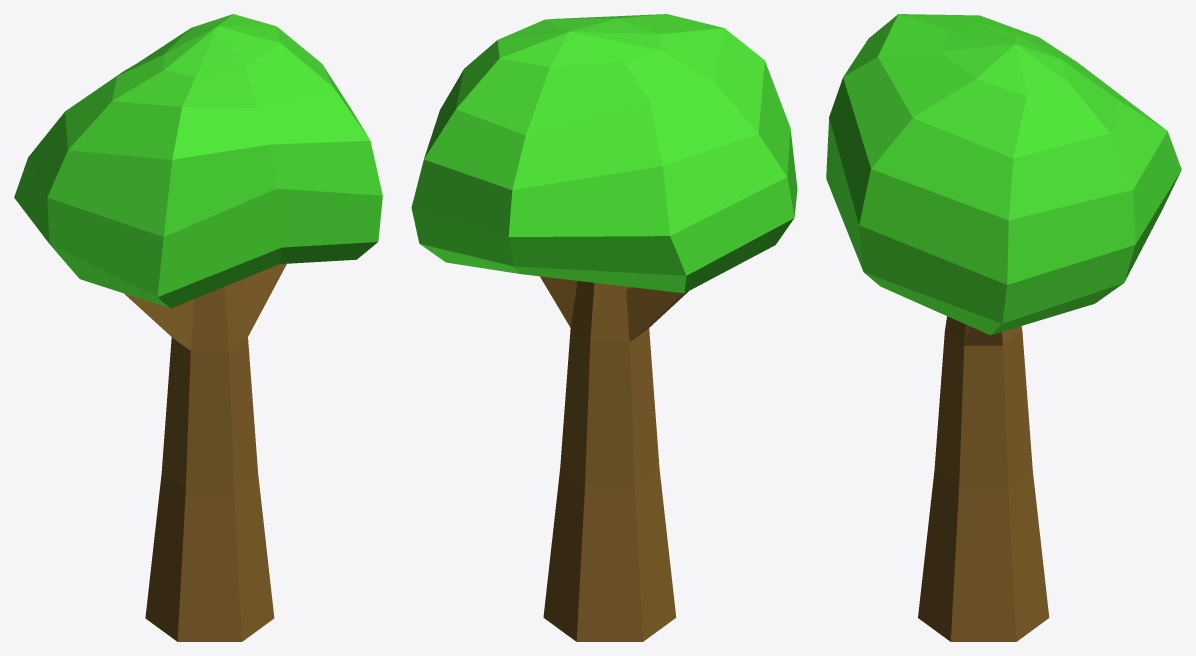
File: Arvore1.fbx
3 views of the same model, side by side, from view 1: azimuth 30°, elevation 25°; view 2: azimuth 150°, elevation 25°; view 3: azimuth 270°, elevation 25° (orthographic). The views are drawn at different scales.
Visible parts, largest first — view 1: Cylinder.001; view 2: Cylinder.001; view 3: Cylinder.001.
Boxes of the visible parts, x1,y1,x2,y2 form: Cylinder.001: (14, 14, 382, 641); Cylinder.001: (411, 14, 797, 641); Cylinder.001: (826, 14, 1181, 641).
Bounding box in the file's own units: 663 × 1087 × 598.
